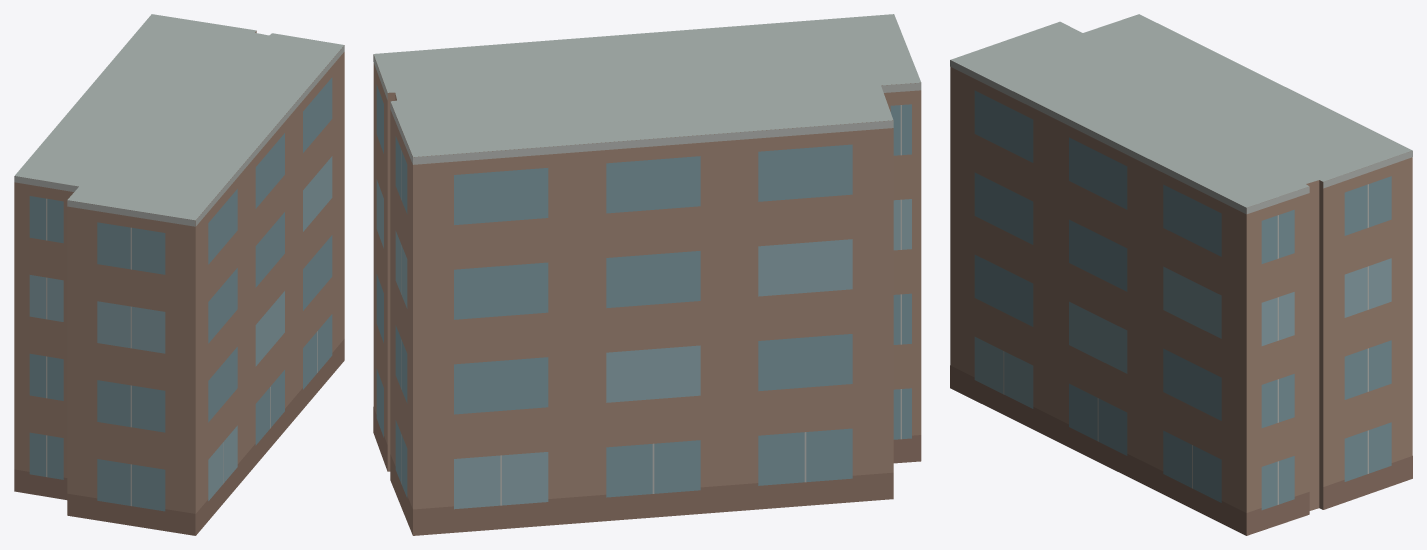
The model's file is survey-upis-32754533.glb.
3 views of the same model, side by side, from view 1: azimuth 30°, elevation 25°; view 2: azimuth 150°, elevation 25°; view 3: azimuth 270°, elevation 25° (orthographic). The views are drawn at different scales.
Visible parts, largest first — view 1: survey-upis-32754533.tmp; view 2: survey-upis-32754533.tmp; view 3: survey-upis-32754533.tmp.
Boxes of the visible parts, box(x1,y1,x2,y2) form: survey-upis-32754533.tmp: box(14, 14, 344, 535); survey-upis-32754533.tmp: box(373, 14, 921, 535); survey-upis-32754533.tmp: box(950, 14, 1412, 535).
Size of the model in its own units: 15.2 by 12 by 15.34.
